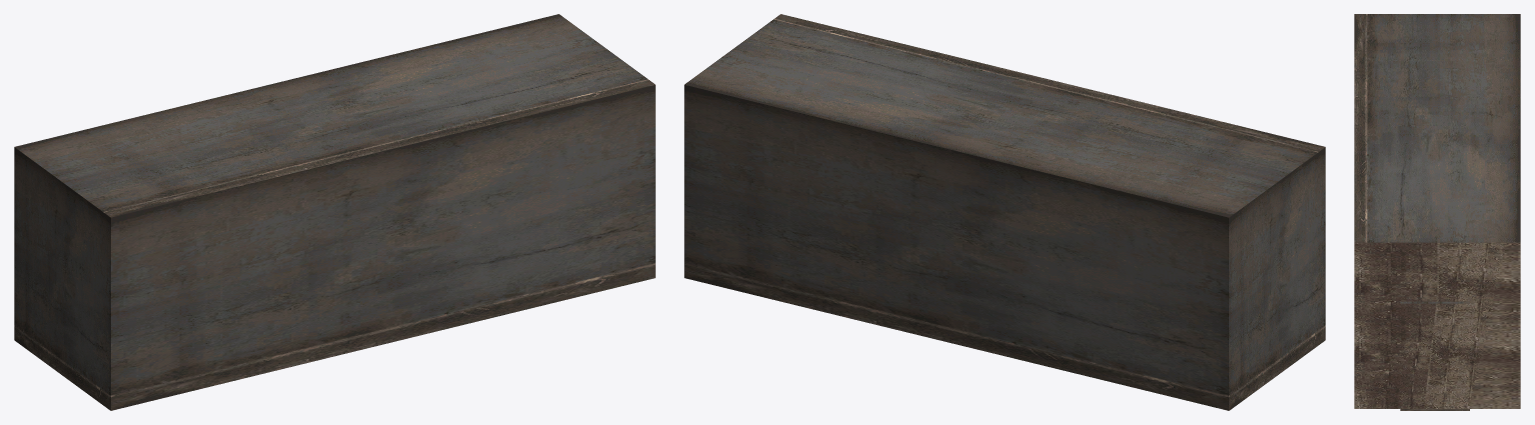
File: sweet_faux_ent.obj
3 views of the same model, side by side, from view 1: azimuth 30°, elevation 25°; view 2: azimuth 150°, elevation 25°; view 3: azimuth 270°, elevation 25° (orthographic). The views are drawn at different scales.
Visible parts, largest first — view 1: sweet_faux_ent; view 2: sweet_faux_ent; view 3: sweet_faux_ent.
Boxes of the visible parts, <box> form: sweet_faux_ent: <box>14,14,655,410</box>; sweet_faux_ent: <box>684,14,1325,410</box>; sweet_faux_ent: <box>1354,14,1520,410</box>.
Bounding box in the file's own units: 11.78 × 3.96 × 3.58.
Materials: 2 (2 with a texture image).
